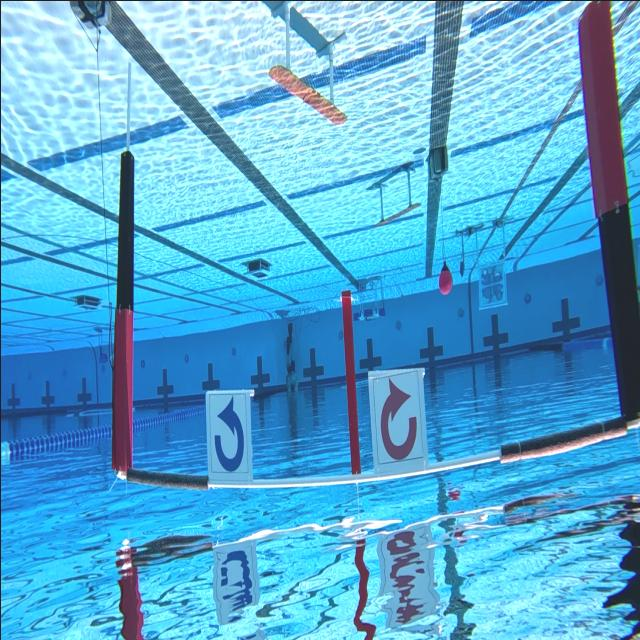blue_side: (202, 379, 258, 492)
red_side: (362, 367, 432, 477)
